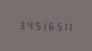five: (31, 19, 37, 30), (52, 20, 58, 31)
four: (24, 19, 30, 30)
one: (38, 19, 44, 30), (59, 20, 65, 31), (66, 20, 72, 31)
six: (45, 19, 51, 31)
three: (17, 18, 23, 30)
